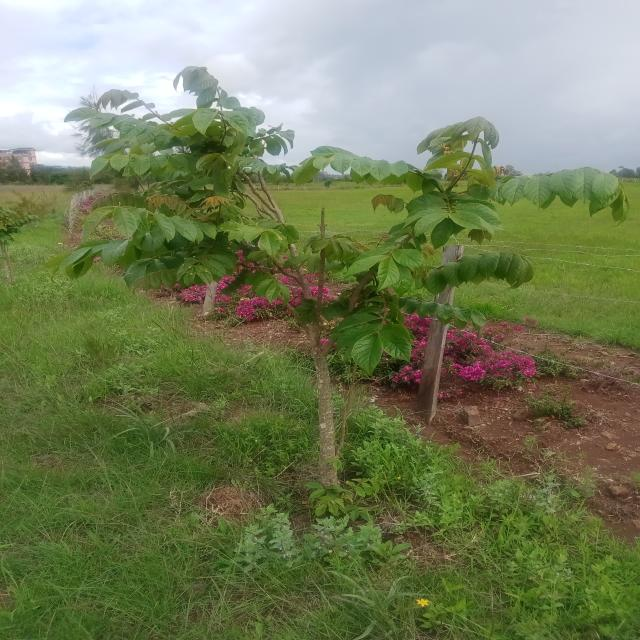Polyscias Kikuyensis: (60, 70, 636, 491)
